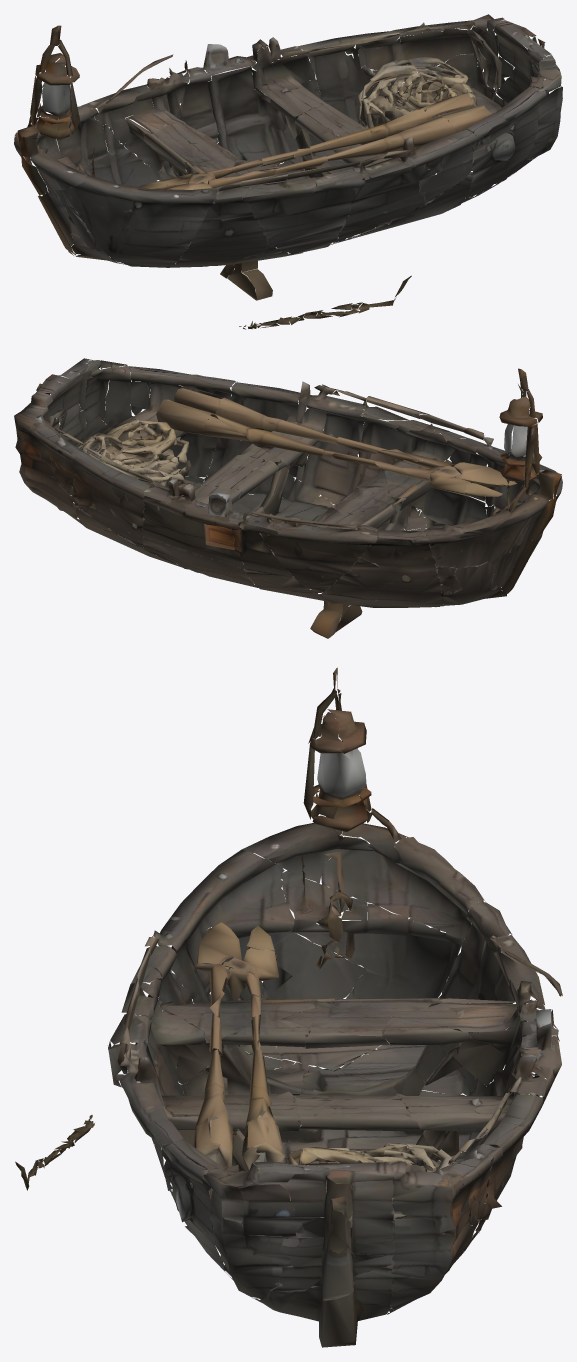
Rendered from boat-b.glb.
3 renders of one model, top to bottom at view 1: azimuth 30°, elevation 25°; view 2: azimuth 150°, elevation 25°; view 3: azimuth 270°, elevation 25°, orthographic. The views are drawn at different scales.
Parts seen in each view (by area): view 1: tripo_node_aa14c4a8-0966-4195-9e19-33252cbdaf27; view 2: tripo_node_aa14c4a8-0966-4195-9e19-33252cbdaf27; view 3: tripo_node_aa14c4a8-0966-4195-9e19-33252cbdaf27.
Part boxes in pixels (x1,y1,x2,y2): tripo_node_aa14c4a8-0966-4195-9e19-33252cbdaf27: (14, 14, 562, 329); tripo_node_aa14c4a8-0966-4195-9e19-33252cbdaf27: (14, 358, 562, 638); tripo_node_aa14c4a8-0966-4195-9e19-33252cbdaf27: (15, 667, 562, 1347).
Bounding box in the file's own units: 3.7 × 2.06 × 2.34.
Materials: 1 (1 with a texture image).
